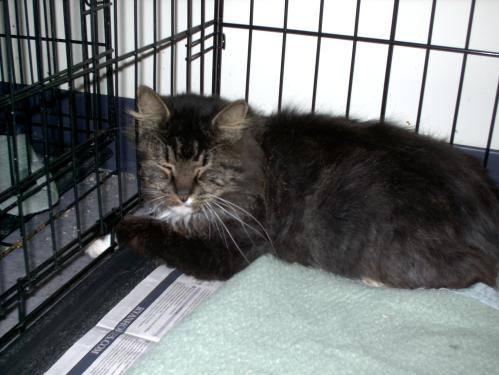cat: (119, 86, 498, 288)
